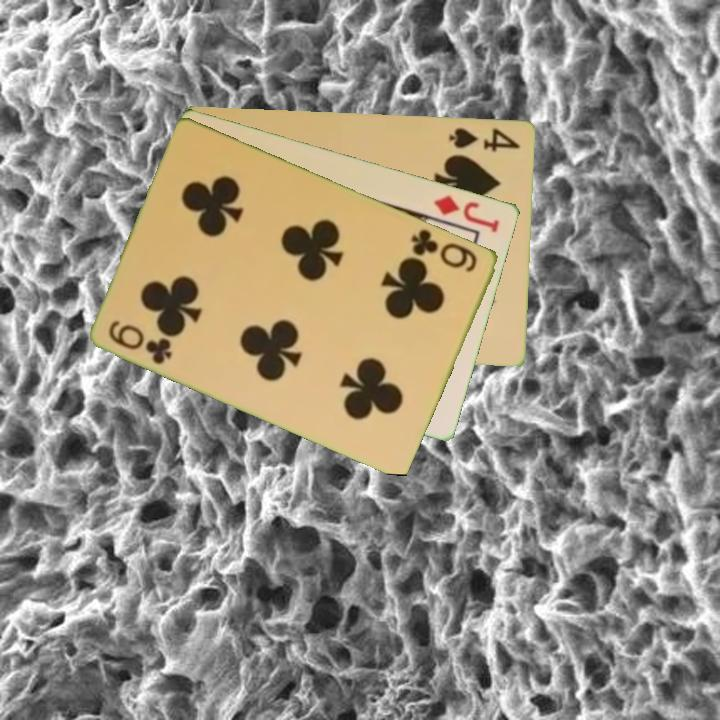4s: (446, 124, 524, 155)
6c: (408, 225, 481, 276), (105, 316, 176, 368)
Jd: (431, 191, 503, 235)
